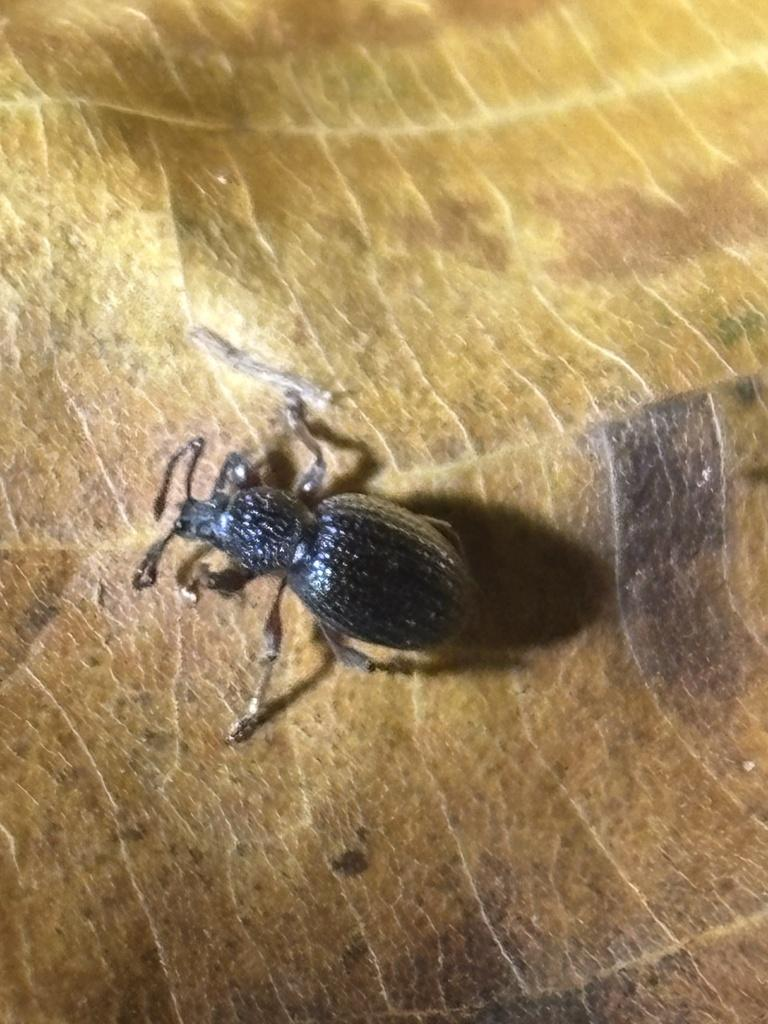weevils: (107, 371, 553, 777)
